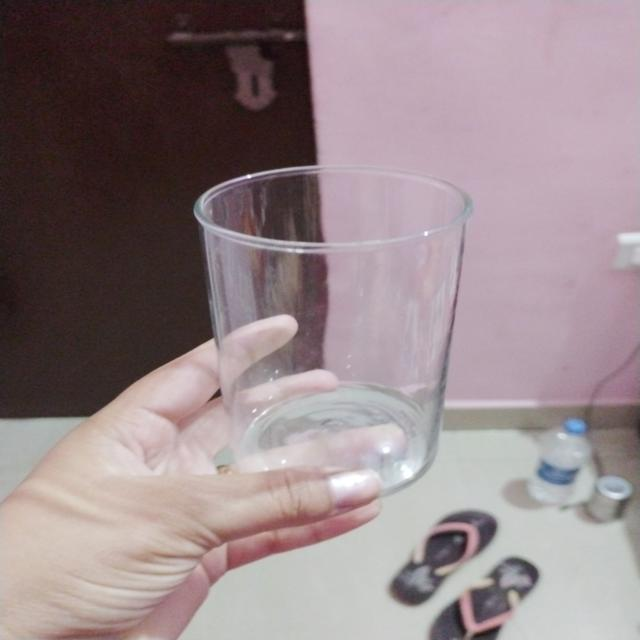Glass: (190, 159, 478, 503)
